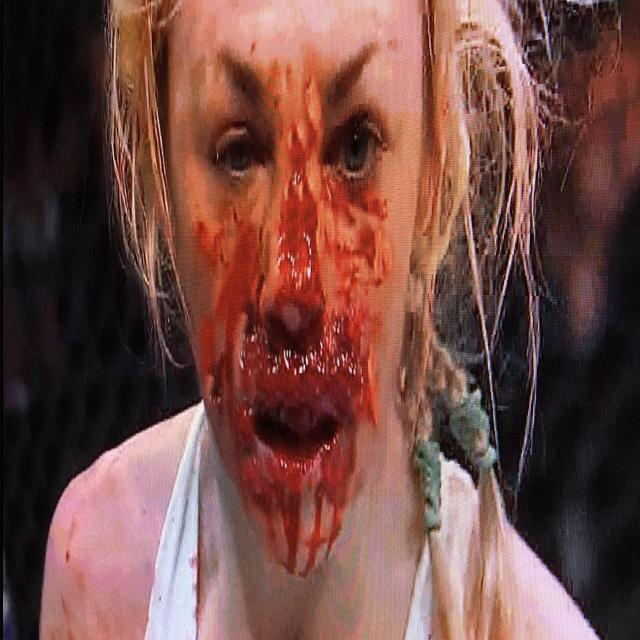flood: (173, 63, 394, 572)
